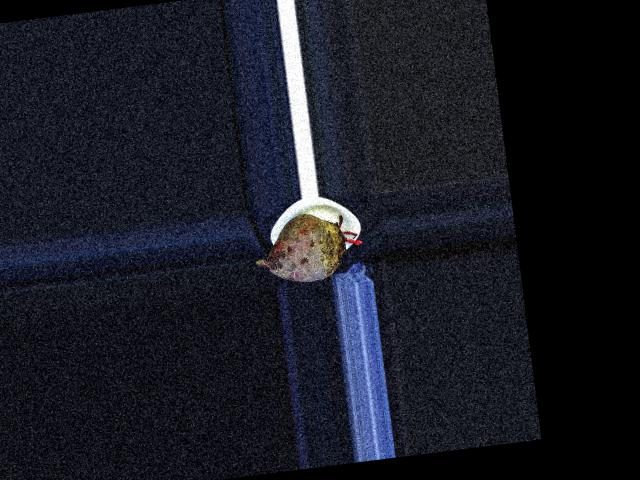beet: (251, 207, 366, 286)
